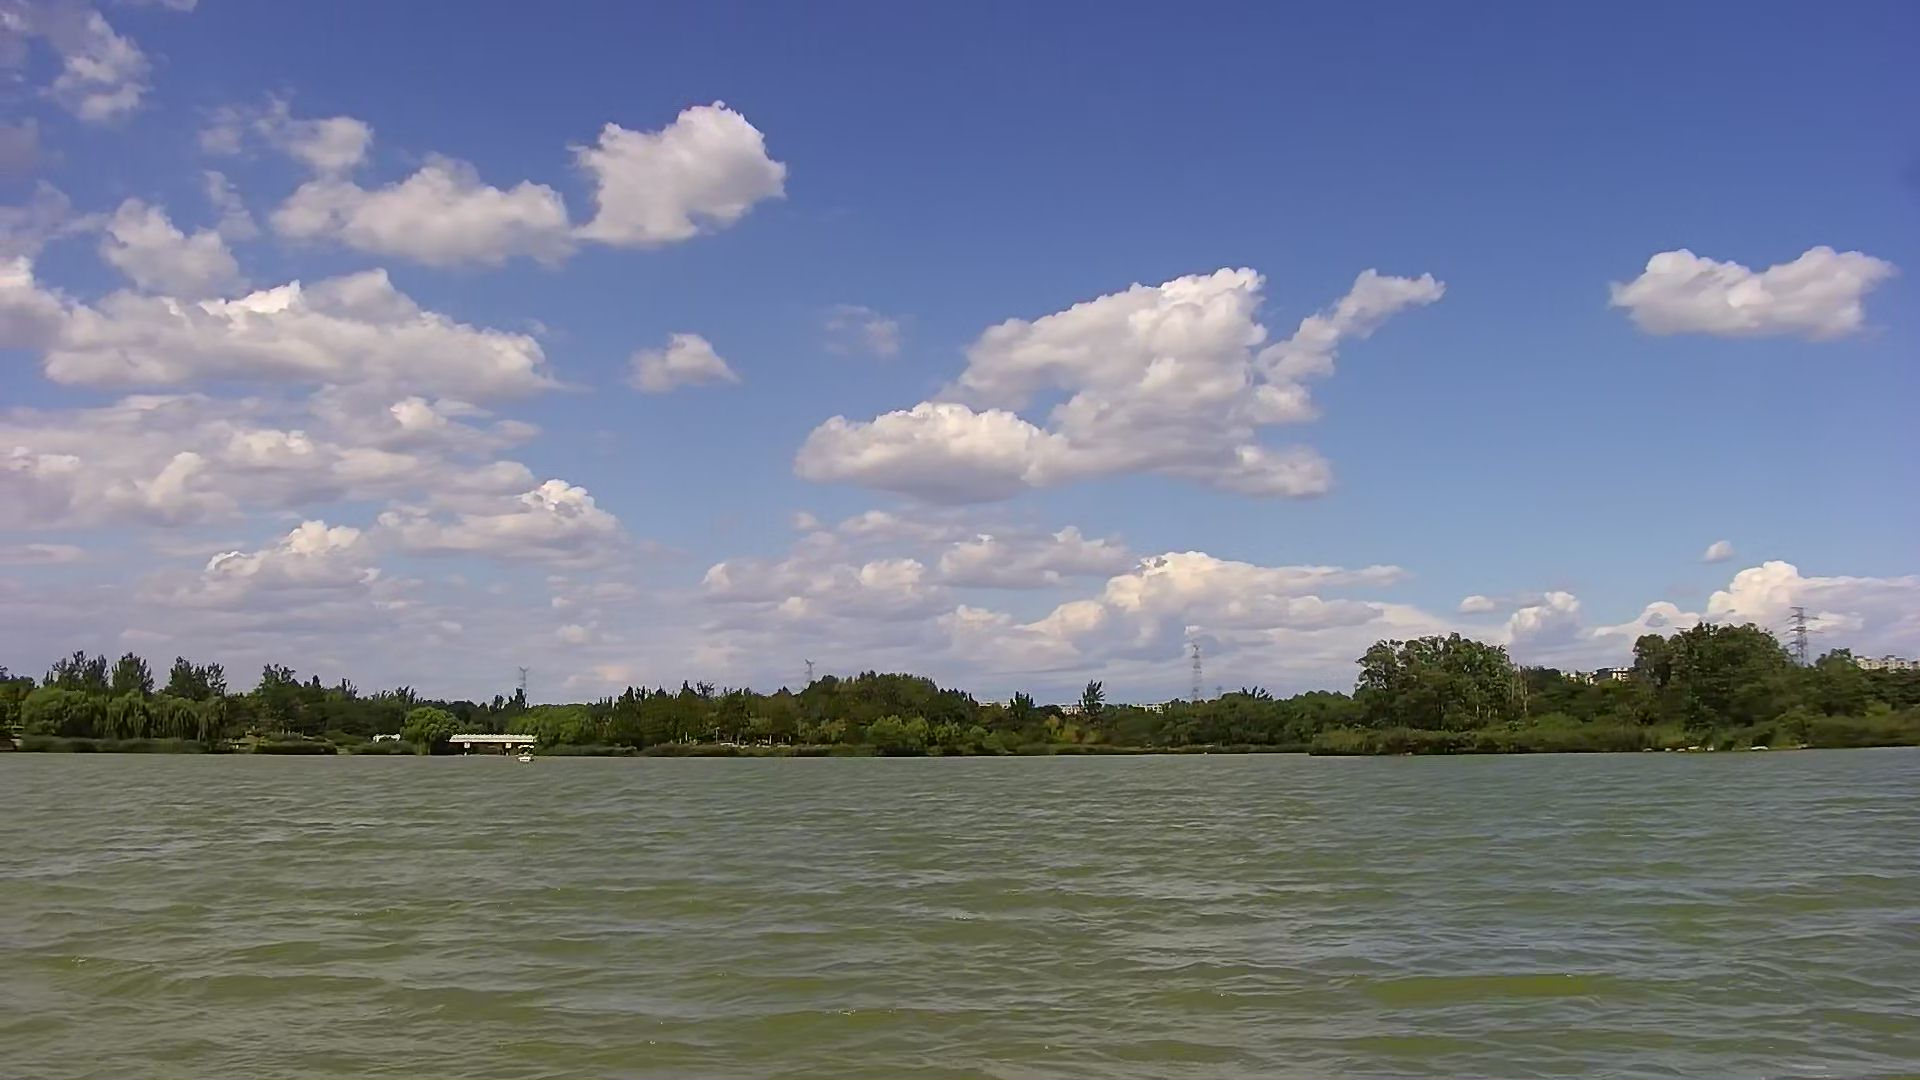bridge: (436, 720, 545, 758)
